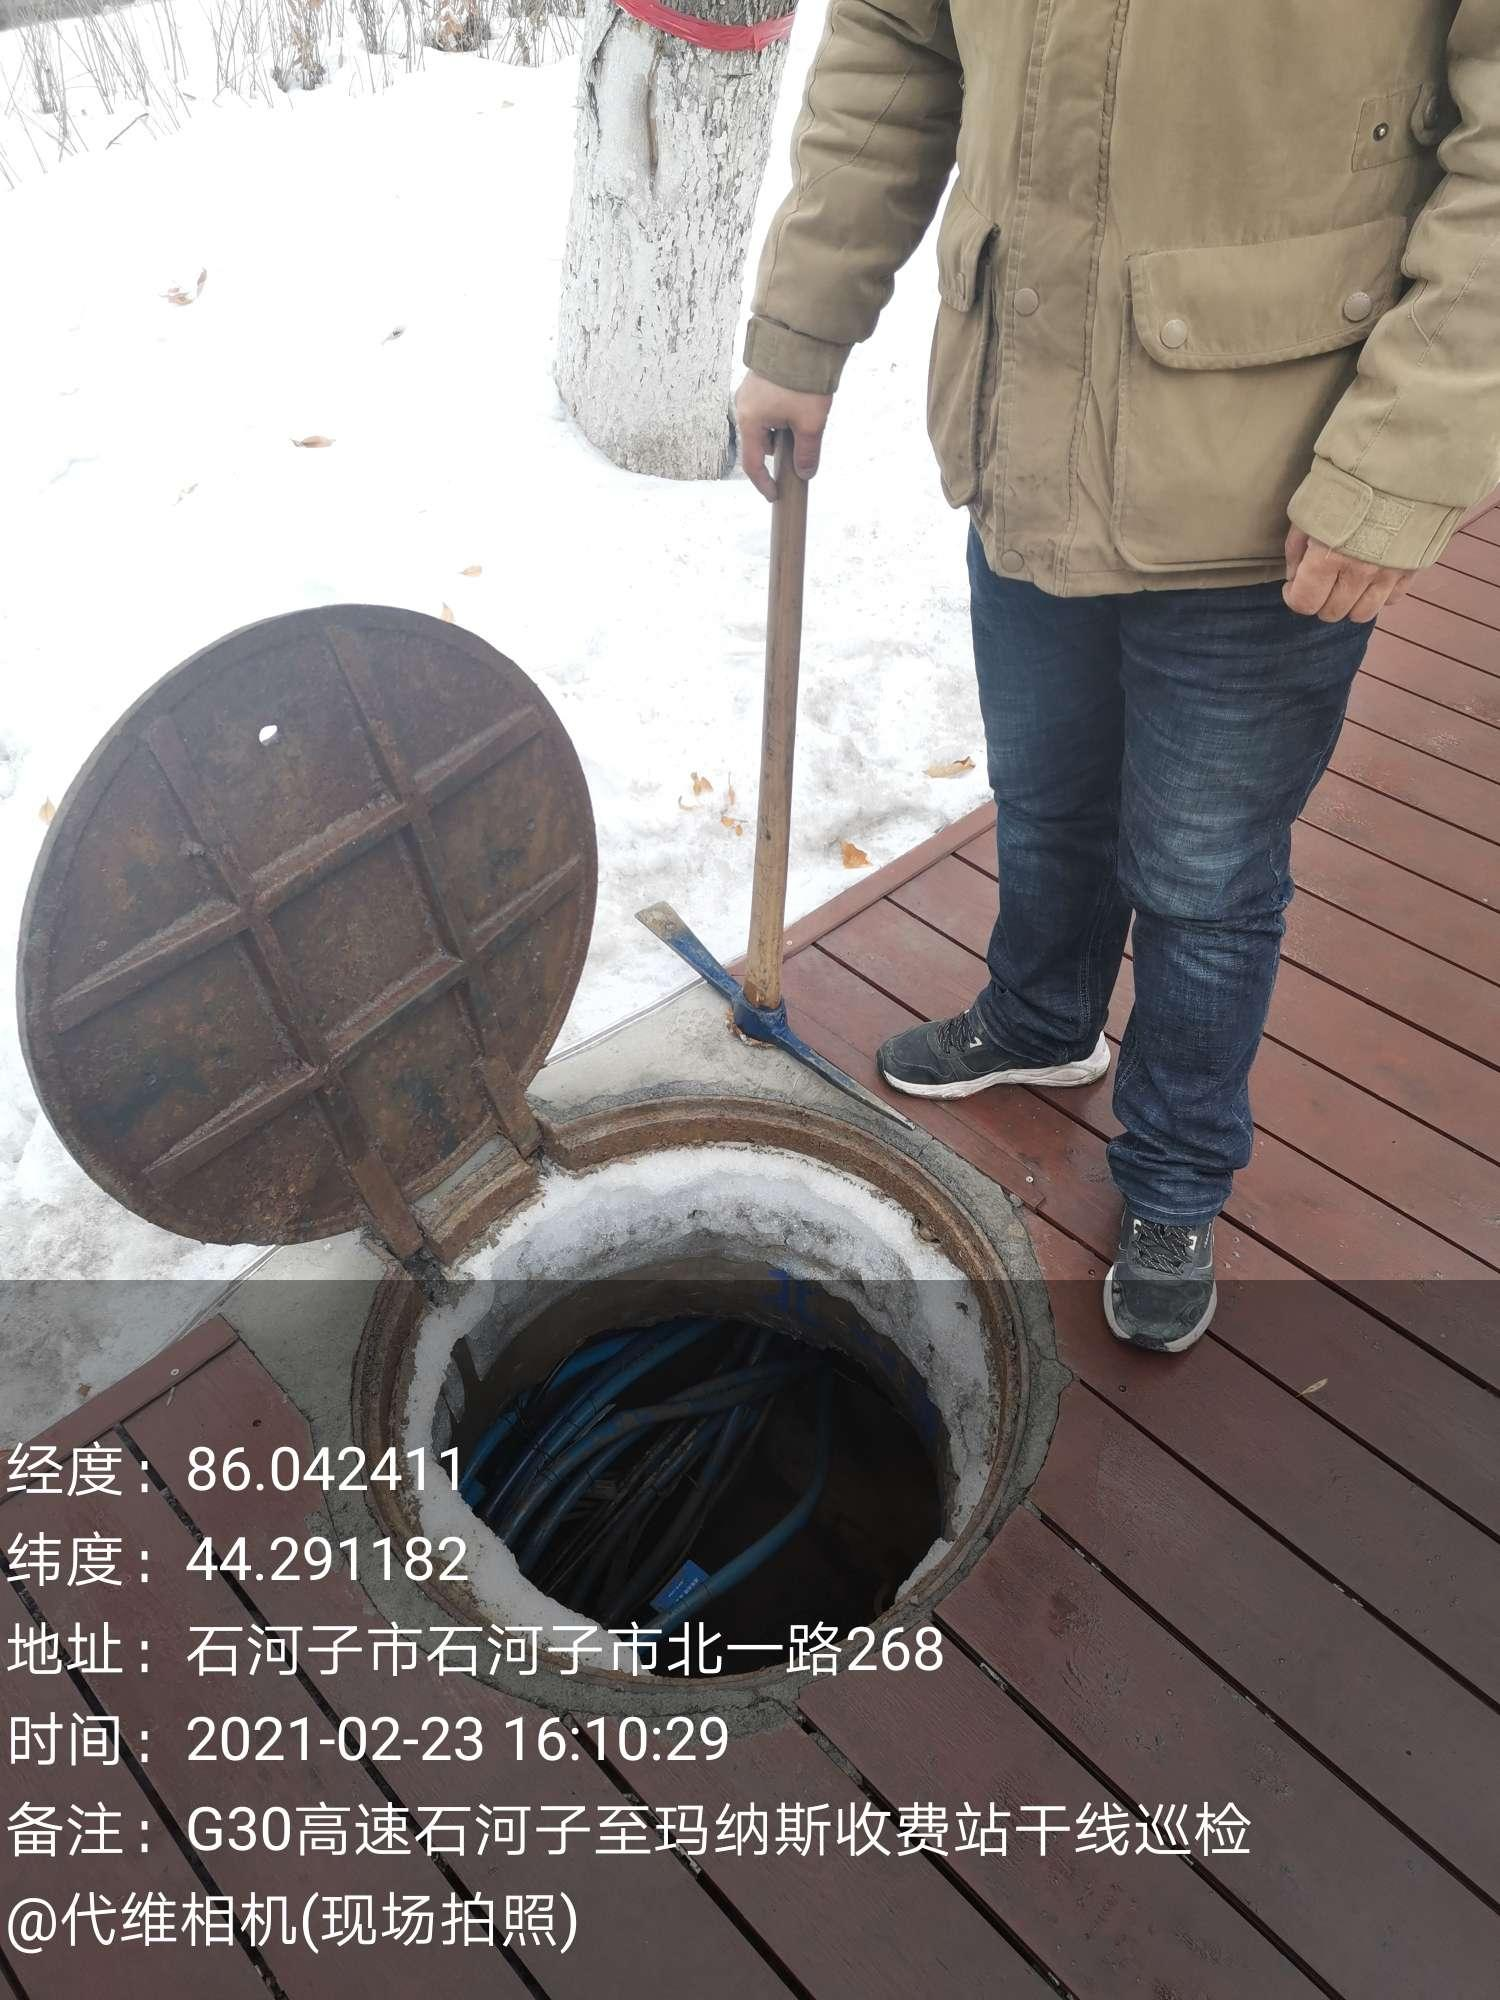wellcover: (27, 542, 1079, 1759)
